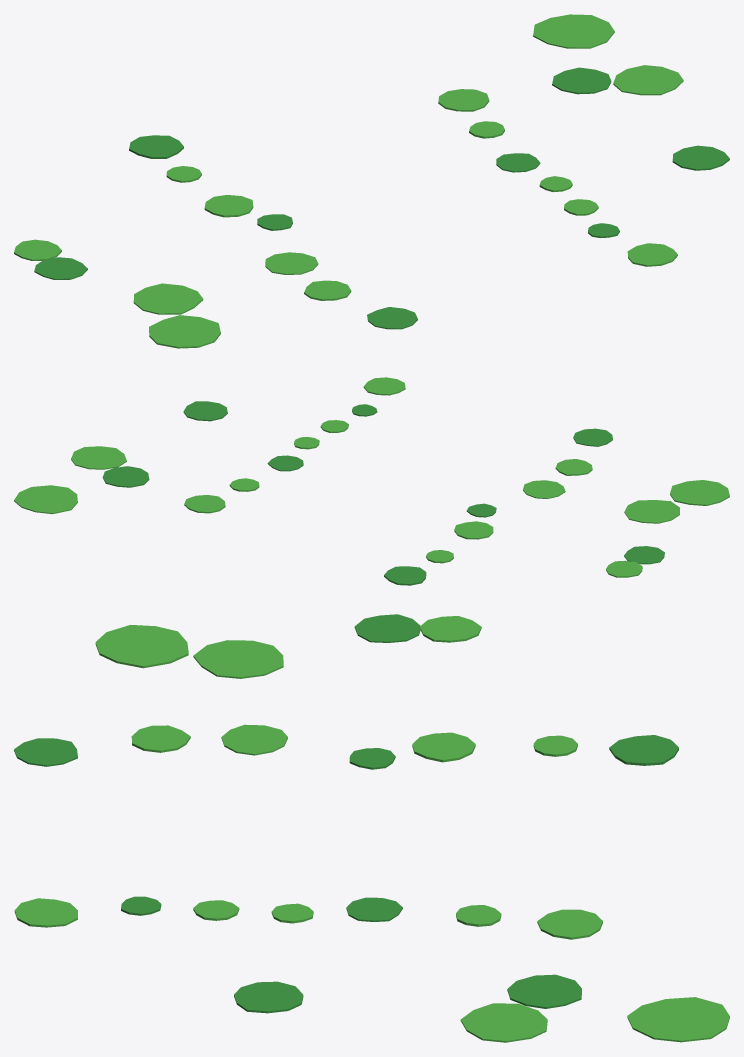
Rendered from IslandGrass.fbx.
The picture shows the model from 3 angles, top to bottom: view 1: azimuth 30°, elevation 25°; view 2: azimuth 150°, elevation 25°; view 3: azimuth 270°, elevation 25°; orthographic projection. The views are drawn at different scales.
Parts seen in each view (by area): view 1: IslandGrass0.001; view 2: IslandGrass0.001; view 3: IslandGrass0.001.
Part boxes in pixels (<box>): IslandGrass0.001: <box>14,14,729,348</box>; IslandGrass0.001: <box>14,377,729,585</box>; IslandGrass0.001: <box>14,614,729,1042</box>.
Size of the model in its own units: 47943 by 128 by 33967.
